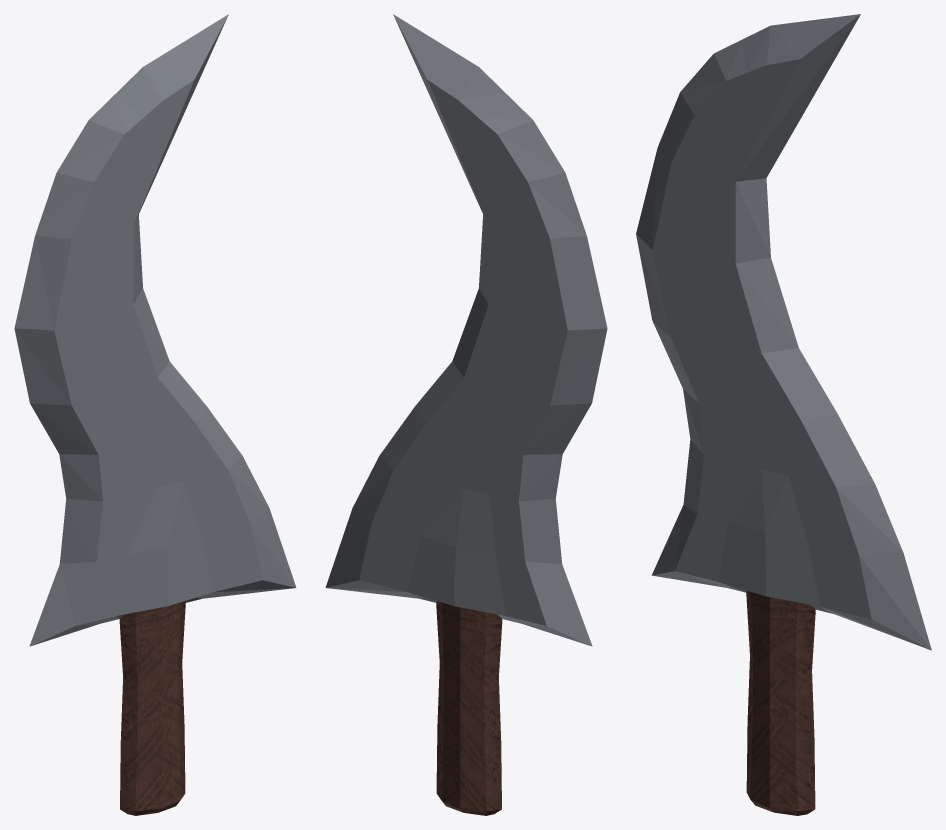
The model's file is Dagger.fbx.
3 renders of one model, left to right at view 1: azimuth 30°, elevation 25°; view 2: azimuth 150°, elevation 25°; view 3: azimuth 330°, elevation 25°, orthographic. The views are drawn at different scales.
Parts seen in each view (by area): view 1: Dagger; view 2: Dagger; view 3: Dagger.
Part boxes in pixels (<box>): Dagger: <box>14,14,296,815</box>; Dagger: <box>325,14,607,815</box>; Dagger: <box>636,14,931,815</box>.
Bounding box in the file's own units: 63.48 × 167 × 11.53.
